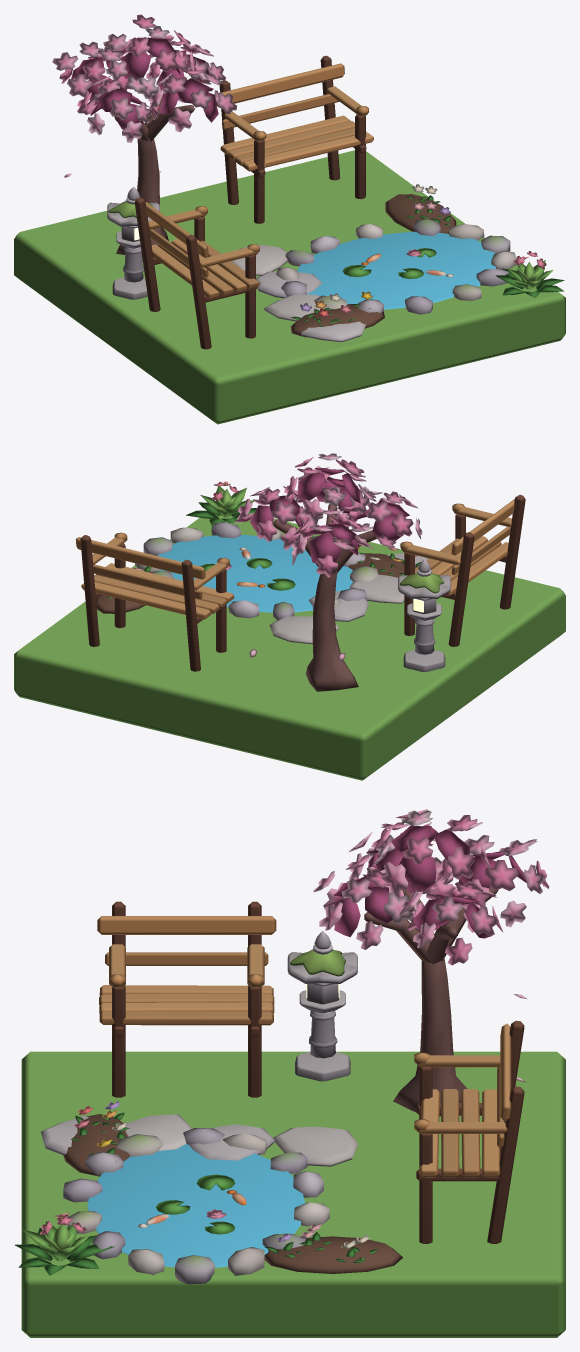
The model's file is park.glb.
3 renders of one model, top to bottom at view 1: azimuth 30°, elevation 25°; view 2: azimuth 150°, elevation 25°; view 3: azimuth 270°, elevation 25°, orthographic. The views are drawn at different scales.
Visible parts, largest first — view 1: park; view 2: park; view 3: park.
Boxes of the visible parts, x1,y1,x2,y2 form: park: (14, 14, 565, 424); park: (14, 453, 565, 780); park: (15, 809, 565, 1337).
Size of the model in its own units: 2.85 by 2.02 by 2.84.
